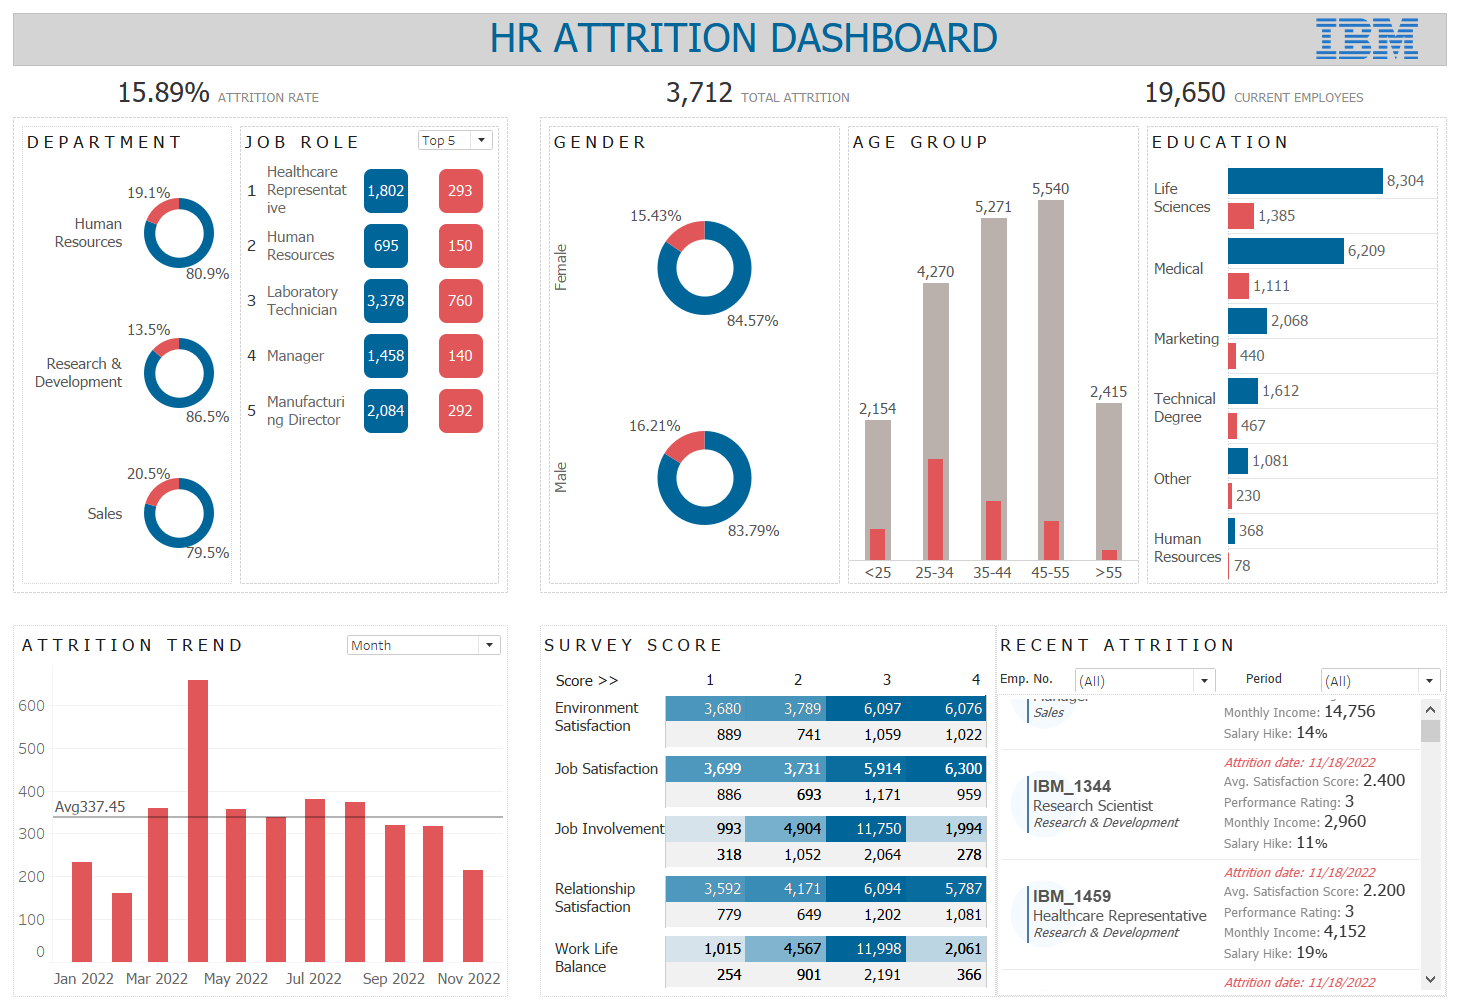

The dashboard page shown, as its layout file describes it:
{"tool":"tableau","page":{"name":"Landing Page","canvas":[1450,1000],"ordinal":0},"visuals":[{"type":"blank","box":[8,8,1434,53]},{"type":"text","box":[481,8,581,46]},{"type":"image","param":"Image/IBM_logo.svg.png","box":[1284,13,157,41]},{"type":"blank","box":[8,61,1434,51]},{"type":"worksheet","title":"KPI 1","mark":"Automatic","box":[108,64,225,46]},{"type":"worksheet","title":"KPI 2","mark":"Automatic","box":[657,64,225,46]},{"type":"worksheet","title":"KPI 3","mark":"Automatic","box":[1135,64,255,46]},{"type":"blank","box":[502.9,112,32.1,880]},{"type":"worksheet","title":"Department","mark":"Circle","rows":["Department"],"cols":["Calculation_2437291857677013002","Calculation_2437291857677049868"],"box":[13,117,218,465.8]},{"type":"worksheet","title":"Job Role","mark":"Shape","rows":["JobRole"],"cols":["Attrition"],"box":[231,117,266.9,465.8]},{"type":"worksheet","title":"Gender","mark":"Pie","rows":["Gender"],"cols":["Calculation_2437291857658421254","Calculation_2437291857658380293"],"box":[540,117,299,466]},{"type":"worksheet","title":"Age Group_New","mark":"Bar","rows":["Attrition_Yes (copy)_1464232866211651587","Calculation_1618481153178337283"],"box":[839,117,299,466]},{"type":"worksheet","title":"Education","mark":"Automatic","rows":["EducationField","Attrition"],"cols":["Calculation_1147010564313804810"],"box":[1138,117,299,466]},{"type":"parameter","param":"[Parameters].[Parameter 2]","box":[410,122,81,32]},{"type":"blank","box":[8,587.8,494.9,32]},{"type":"blank","box":[535,588,907,32]},{"type":"worksheet","title":"Sheet 9 (2)","mark":"Bar","rows":["EmployeeNumber"],"cols":["Calculation_590534538135277570"],"box":[8,619.8,494.9,372.2]},{"type":"text","box":[536,621,183,36]},{"type":"text","box":[992,621,240,37]},{"type":"blank","box":[992.5,621,448.5,68]},{"type":"blank","box":[540,625,446,61]},{"type":"parameter","param":"[Parameters].[Parameter 3]","box":[339,627,160,45]},{"type":"worksheet","title":"Satisfaction Score Header","mark":"Automatic","rows":["Calculation_1618481153205293085"],"cols":["EnvironmentSatisfaction"],"box":[545,658.9,435,32.2]},{"type":"filter","title":"Attrition Detail","param":"[federated.05j3p0c1270si8194p8990wuq7m5].[none:Calculation_1464232866282455052:n","box":[995,663,219,24]},{"type":"filter","title":"Attrition Detail","param":"[federated.05j3p0c1270si8194p8990wuq7m5].[mn:Employee Last Date:ok]","box":[1241,663,198,24]},{"type":"worksheet","title":"Environment Satisfaction ","mark":"Square","rows":["Calculation_1618481153199624215","Attrition"],"cols":["EnvironmentSatisfaction"],"box":[540,686,446,61]},{"type":"worksheet","title":"Attrition Detail","mark":"Automatic","rows":["EmployeeNumber","Employee Last Date"],"cols":["Calculation_1464232866228527109","Calculation_1464232866228645898","Calculation_1464232866228584457"],"box":[992.5,689,448.5,302]},{"type":"worksheet","title":"Job Satisfaction ","mark":"Square","rows":["Calculation_1618481153198944278","Attrition"],"cols":["JobSatisfaction"],"box":[540,747,446,60]},{"type":"worksheet","title":"Job Involvement ","mark":"Square","rows":["Calculation_1618481153201954842","Attrition"],"cols":["JobInvolvement"],"box":[540,807,446,60]},{"type":"worksheet","title":"Relationship Satisfaction","mark":"Square","rows":["Calculation_1618481153202327579","Attrition"],"cols":["RelationshipSatisfaction"],"box":[540,867,446,60]},{"type":"worksheet","title":"Work Life Balance","mark":"Square","rows":["Calculation_1618481153200689177","Attrition"],"cols":["WorkLifeBalance"],"box":[540,927,446,60]}]}

Visuals, with their boxes in screenshot pixels (x1, y1, x2, y2), scaled from the page's 1450x1000 canvas onto the 1467x1002 screenshot:
blank: 8:8:1459:61
text: 487:8:1074:54
image: 1299:13:1458:54
blank: 8:61:1459:112
"KPI 1" worksheet: 109:64:337:110
"KPI 2" worksheet: 665:64:892:110
"KPI 3" worksheet: 1148:64:1406:110
blank: 509:112:541:994
"Department" worksheet (Circle marks): 13:117:234:584
"Job Role" worksheet (Shape marks): 234:117:504:584
"Gender" worksheet (Pie marks): 546:117:849:584
"Age Group_New" worksheet (Bar marks): 849:117:1151:584
"Education" worksheet: 1151:117:1454:584
parameter: 415:122:497:154
blank: 8:589:509:621
blank: 541:589:1459:621
"Sheet 9 (2)" worksheet (Bar marks): 8:621:509:994
text: 542:622:727:658
text: 1004:622:1246:659
blank: 1004:622:1458:690
blank: 546:626:998:687
parameter: 343:628:505:673
"Satisfaction Score Header" worksheet: 551:660:991:692
"Attrition Detail" filter: 1007:664:1228:688
"Attrition Detail" filter: 1256:664:1456:688
"Environment Satisfaction " worksheet (Square marks): 546:687:998:748
"Attrition Detail" worksheet: 1004:690:1458:993
"Job Satisfaction " worksheet (Square marks): 546:748:998:809
"Job Involvement " worksheet (Square marks): 546:809:998:869
"Relationship Satisfaction" worksheet (Square marks): 546:869:998:929
"Work Life Balance" worksheet (Square marks): 546:929:998:989
